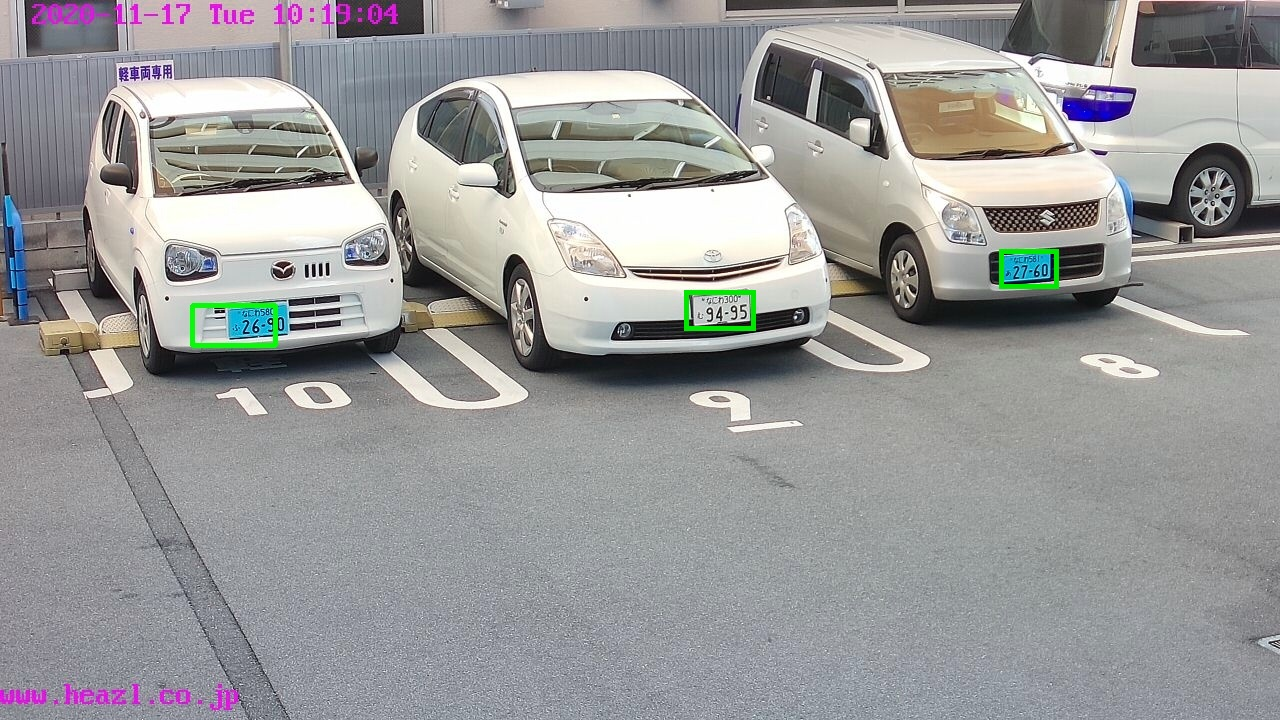number_plate: (224, 303, 289, 338), (687, 292, 753, 325), (1001, 249, 1054, 282)
